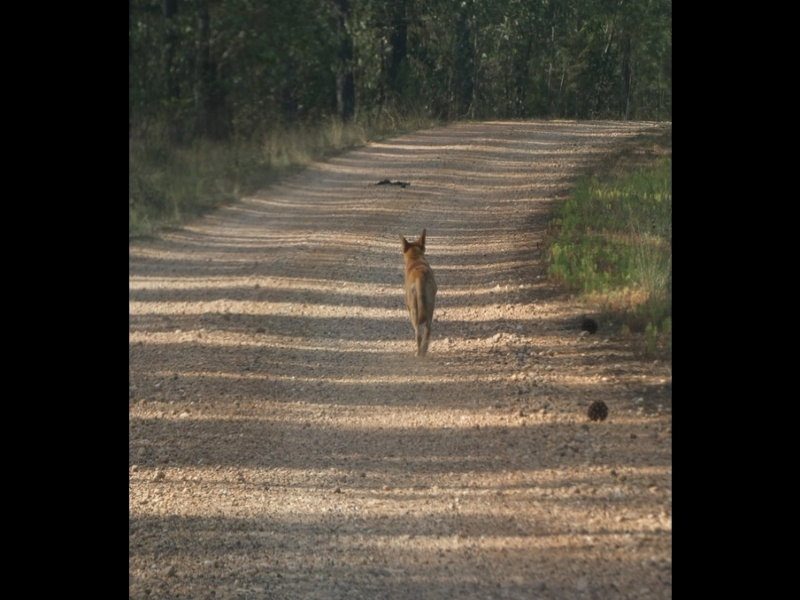dog: (394, 226, 437, 359)
